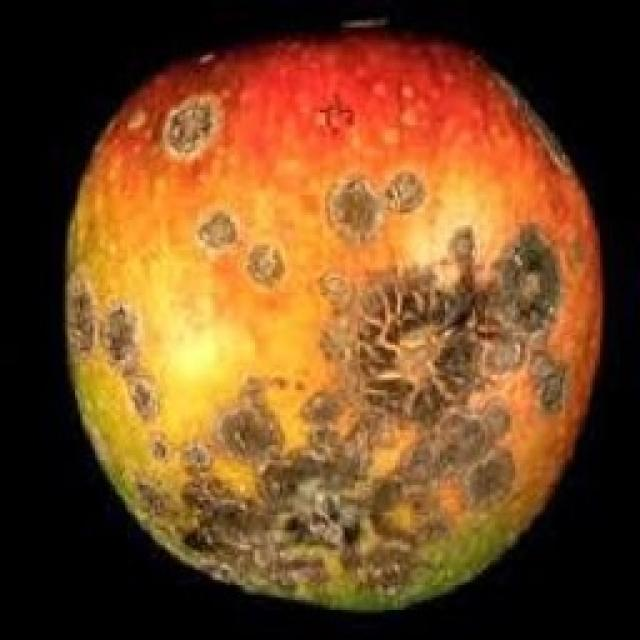defective: (62, 20, 605, 612)
